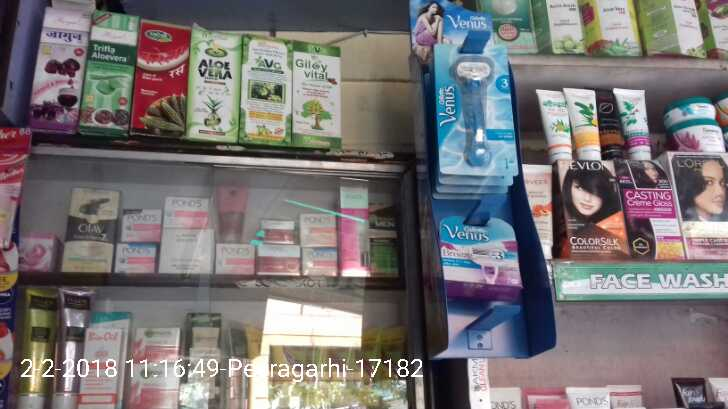venus: (434, 47, 522, 184), (438, 212, 522, 284)
